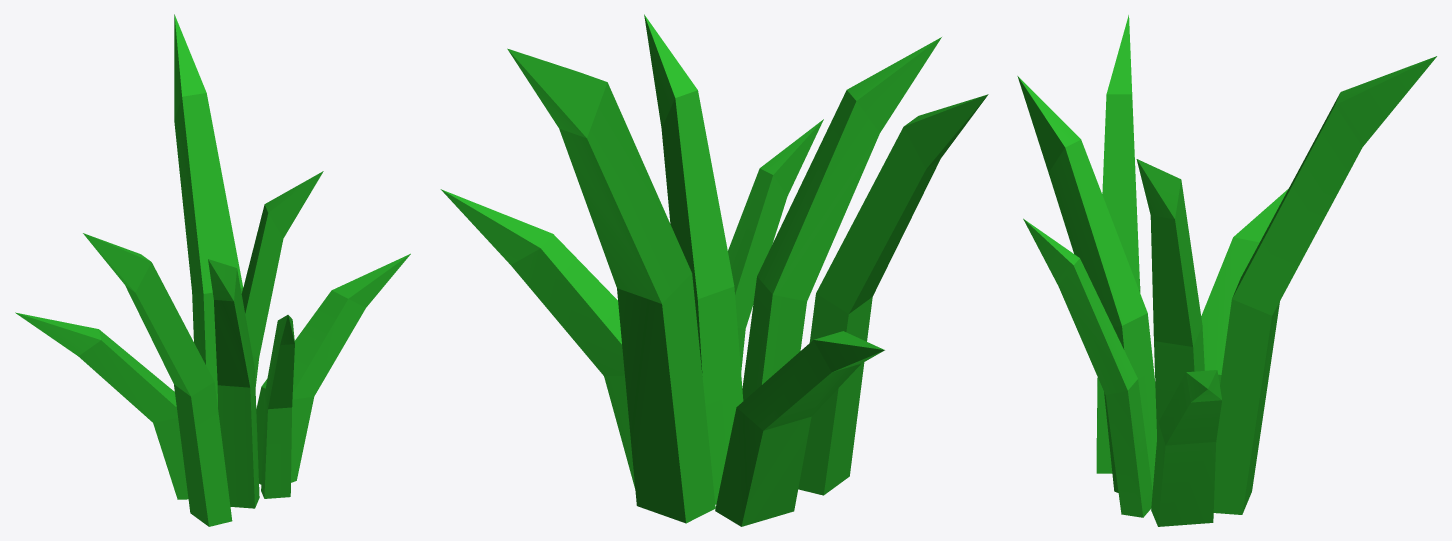
The model's file is SM_Grass_03.fbx.
The picture shows the model from 3 angles, left to right: view 1: azimuth 30°, elevation 25°; view 2: azimuth 150°, elevation 25°; view 3: azimuth 270°, elevation 25°; orthographic projection. The views are drawn at different scales.
Visible parts, largest first — view 1: SM_Grass_03; view 2: SM_Grass_03; view 3: SM_Grass_03.
Boxes of the visible parts, left/top/right/bottom form: SM_Grass_03: left=15, top=14, right=410, bottom=526; SM_Grass_03: left=440, top=14, right=988, bottom=526; SM_Grass_03: left=1017, top=15, right=1436, bottom=526.
Bounding box in the file's own units: 35.96 × 36.54 × 29.81.
